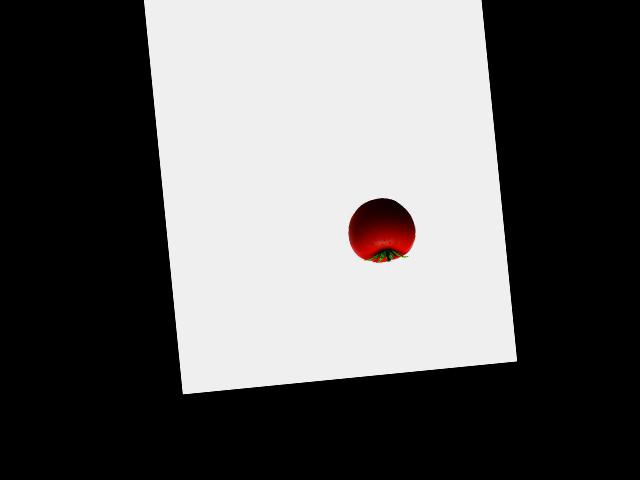tomato: (353, 195, 417, 264)
